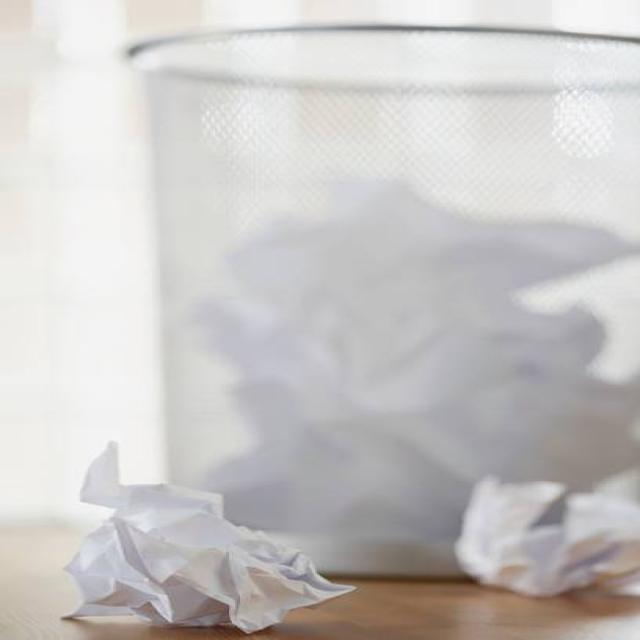electronic: (181, 174, 638, 580), (60, 440, 358, 634), (452, 469, 638, 598)
